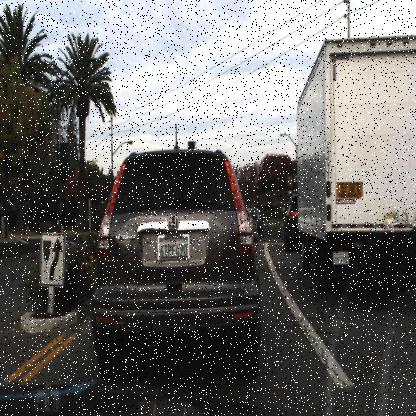car: (72, 138, 268, 384), (278, 175, 310, 259)
truck: (296, 21, 415, 301)
